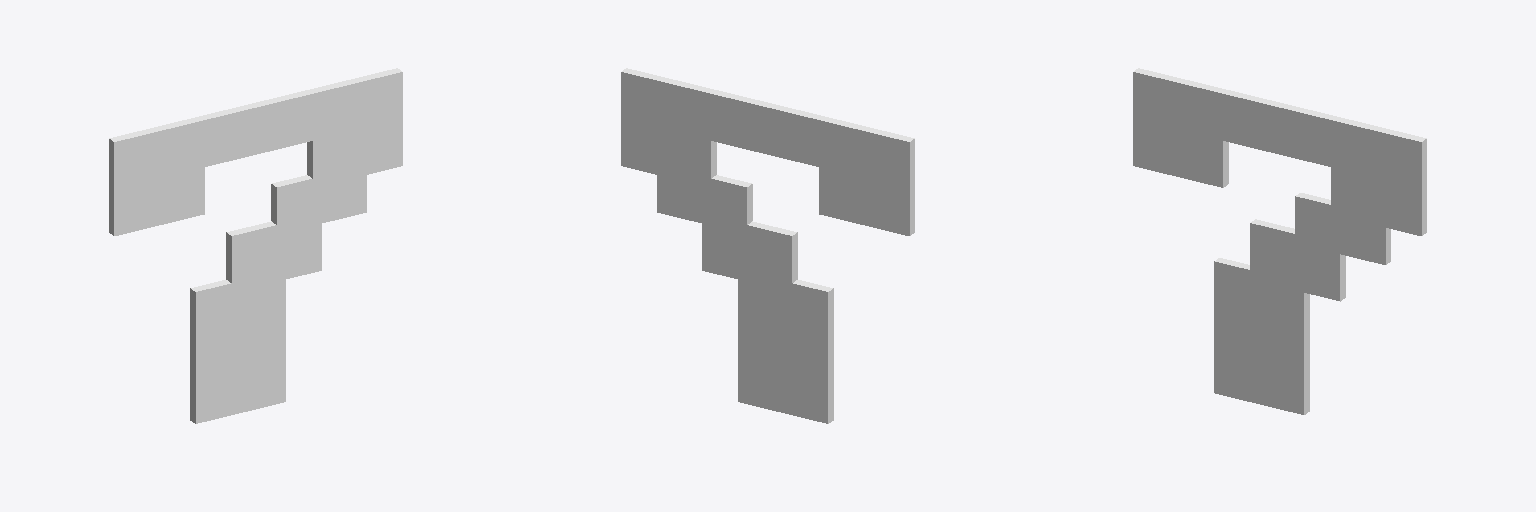
3 views of the same model, side by side, from view 1: azimuth 30°, elevation 25°; view 2: azimuth 150°, elevation 25°; view 3: azimuth 330°, elevation 25° (orthographic).
Parts seen in each view (by area): view 1: ch_7_32; view 2: ch_7_32; view 3: ch_7_32.
Part boxes in pixels (bbox=[...]): ch_7_32: bbox=[109, 68, 402, 423]; ch_7_32: bbox=[621, 68, 914, 423]; ch_7_32: bbox=[1133, 68, 1426, 414].
Size of the model in its own units: 32 by 32 by 1.